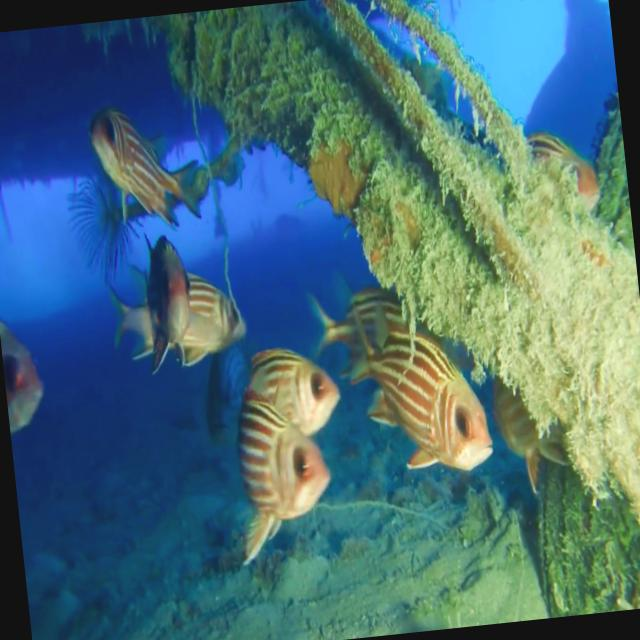Asker Baligi: (308, 270, 497, 488), (220, 338, 358, 567)
